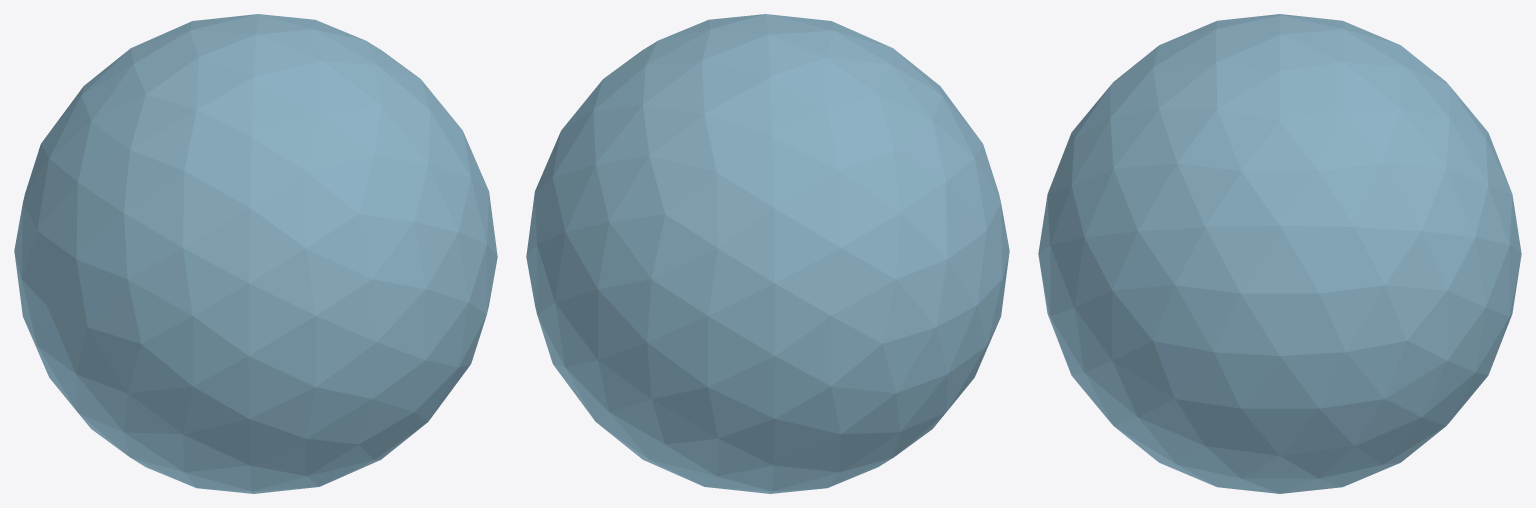
Rendered from hexad-satellite.glb.
3 views of the same model, side by side, from view 1: azimuth 30°, elevation 25°; view 2: azimuth 150°, elevation 25°; view 3: azimuth 270°, elevation 25° (orthographic).
Parts seen in each view (by area): view 1: Satellite_Body; view 2: Satellite_Body; view 3: Satellite_Body.
Part boxes in pixels (left/top/right/bottom): Satellite_Body: left=14, top=14, right=497, bottom=493; Satellite_Body: left=526, top=14, right=1009, bottom=493; Satellite_Body: left=1038, top=14, right=1521, bottom=493.
Size of the model in its own units: 0.56 by 0.56 by 0.56.
